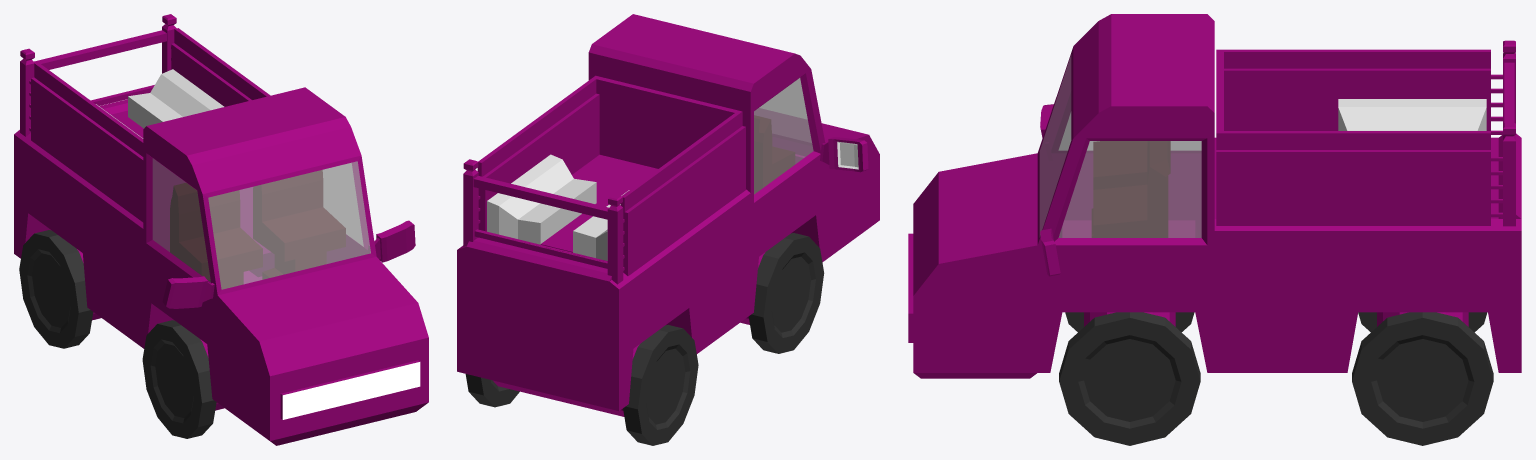
Rendered from cars13.glb.
The picture shows the model from 3 angles, left to right: view 1: azimuth 30°, elevation 25°; view 2: azimuth 150°, elevation 25°; view 3: azimuth 270°, elevation 25°; orthographic projection. The views are drawn at different scales.
Visible parts, largest first — view 1: Car13, Car13Tire1, Car13Tire2; view 2: Car13, Car13Tire2, Car13Tire1; view 3: Car13, Car13Tire1, Car13Tire2.
Boxes of the visible parts, bbox=[...] form: Car13: bbox=[14, 14, 428, 445]; Car13Tire1: bbox=[142, 320, 224, 438]; Car13Tire2: bbox=[19, 230, 100, 348]; Car13: bbox=[457, 14, 879, 410]; Car13Tire2: bbox=[465, 325, 698, 445]; Car13Tire1: bbox=[740, 233, 824, 353]; Car13: bbox=[908, 14, 1521, 378]; Car13Tire1: bbox=[1059, 312, 1200, 445]; Car13Tire2: bbox=[1352, 312, 1493, 445].
Size of the model in its own units: 1.3 by 1.42 by 2.33.
